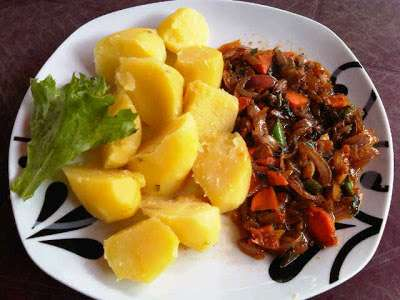boiled potatoes: (106, 221, 181, 286), (121, 57, 185, 125), (65, 164, 137, 222), (138, 117, 196, 186), (198, 131, 246, 205), (148, 198, 223, 244), (96, 28, 161, 78), (184, 80, 234, 133), (162, 10, 211, 49), (170, 44, 219, 82)
chopped lettuce: (28, 80, 110, 197)
